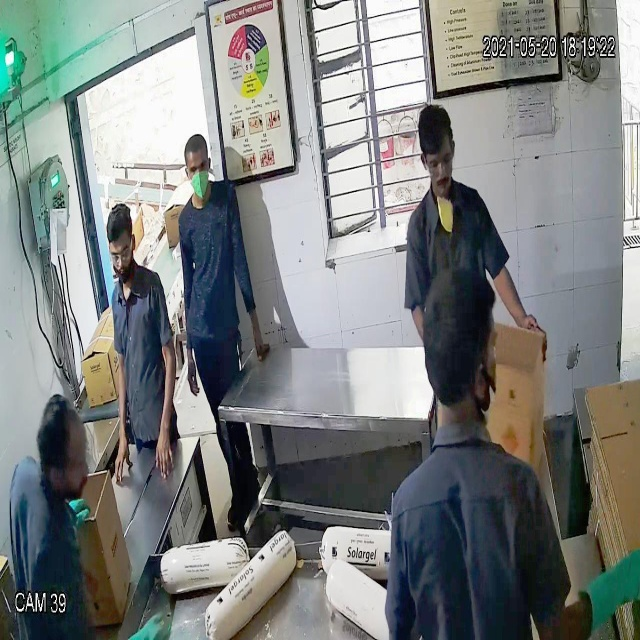Gafas: (418, 149, 458, 180), (108, 237, 136, 265)
Sin_gafas: (182, 158, 214, 181)
